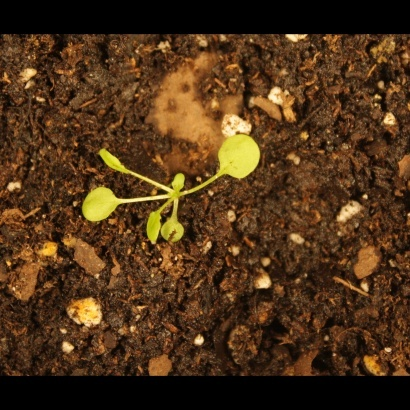leaf: (214, 134, 271, 182), (63, 186, 127, 227), (84, 143, 139, 181), (138, 207, 171, 251), (163, 211, 189, 255), (160, 170, 190, 196)
